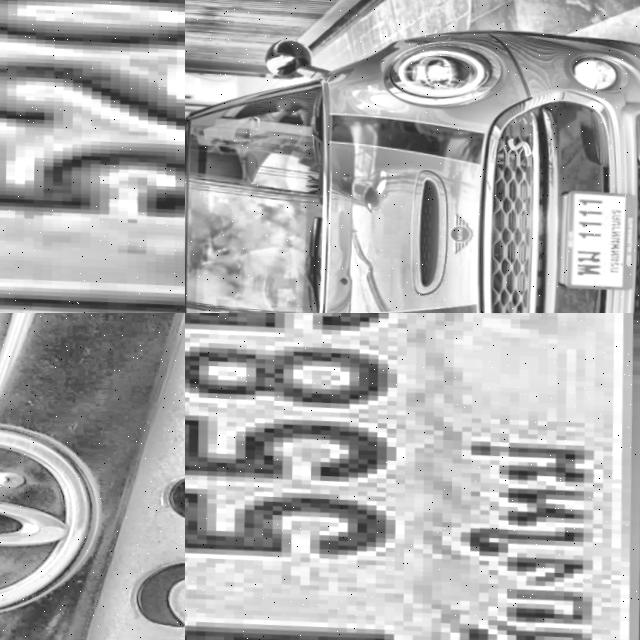license-plate: (185, 313, 640, 640), (0, 313, 185, 640), (0, 0, 185, 313), (551, 177, 640, 290)
